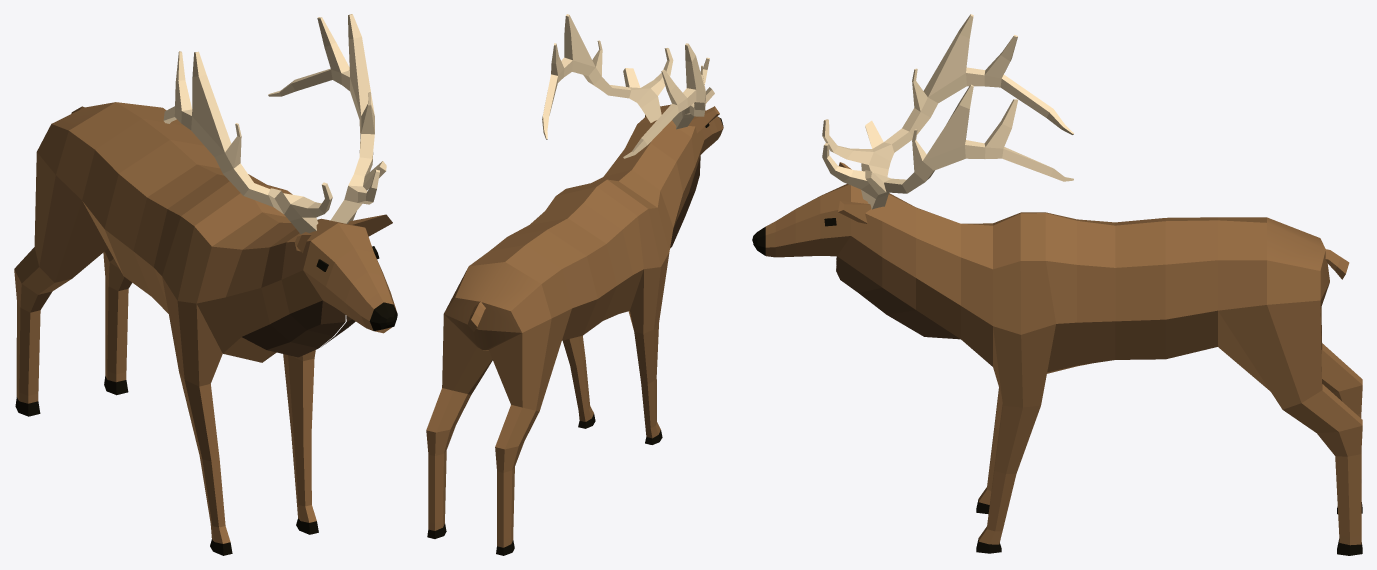
Rendered from c09aef61-3173-4016-bc64-95faa7f47d6c.glb.
3 views of the same model, side by side, from view 1: azimuth 30°, elevation 25°; view 2: azimuth 150°, elevation 25°; view 3: azimuth 270°, elevation 25° (orthographic). The views are drawn at different scales.
Parts seen in each view (by area): view 1: Geo_Elk; view 2: Geo_Elk; view 3: Geo_Elk.
Part boxes in pixels (x1,y1,x2,y2): Geo_Elk: (14, 14, 397, 555); Geo_Elk: (426, 14, 723, 555); Geo_Elk: (752, 14, 1362, 555).
Bounding box in the file's own units: 67.21 × 193 × 222.
Materials: 1 (1 with a texture image).
